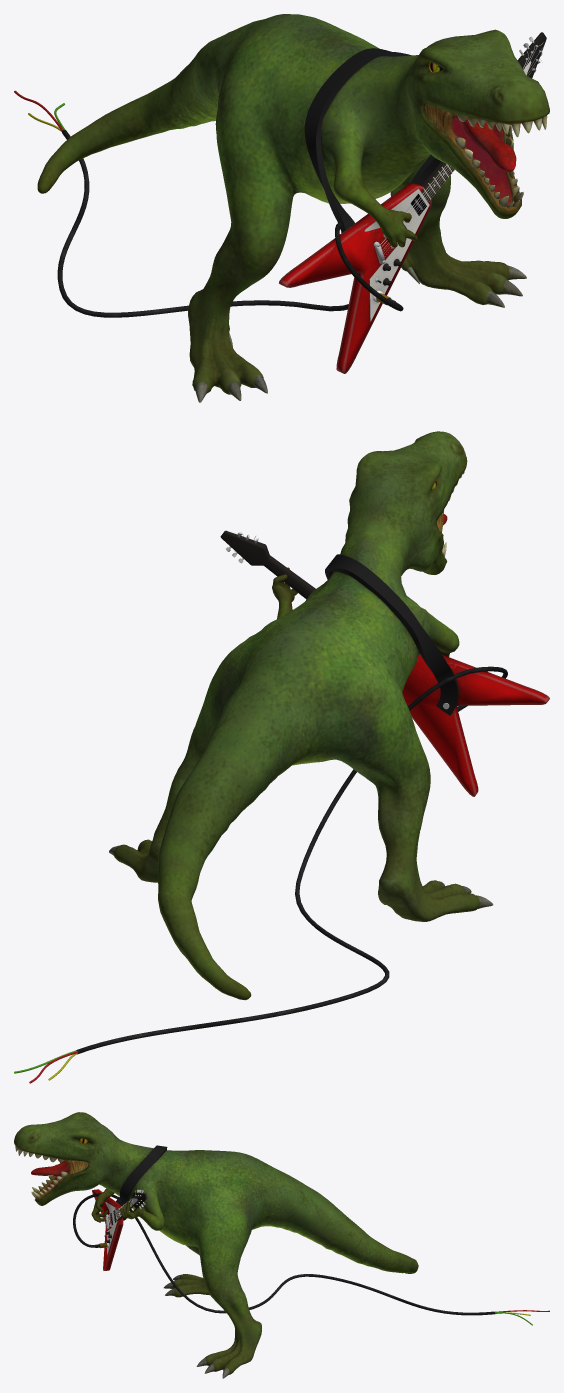
File: dino.glb
3 views of the same model, one above another, from view 1: azimuth 30°, elevation 25°; view 2: azimuth 150°, elevation 25°; view 3: azimuth 270°, elevation 25° (orthographic). The views are drawn at different scales.
Visible parts, largest first — view 1: BodyRetopo, Marge_Guitar.001_Cube.006, object 17, Marge_Guitar_Cube.005, object 16, TeethRetopo, tongueRetopo, clawsRetopo, BodyFallRetopo, gumRetopo.002, Marge_Guitar.003_Cube.009, Plug_Cube.002; view 2: BodyRetopo, Marge_Guitar.001_Cube.006, object 16, object 17, Marge_Guitar_Cube.005; view 3: BodyRetopo, object 16, object 17, Marge_Guitar.001_Cube.006, Marge_Guitar_Cube.005, TeethRetopo, gumRetopo.002, tongueRetopo.
Boxes of the visible parts, <box> form: BodyRetopo: <box>37,14,549,394</box>; Marge_Guitar.001_Cube.006: <box>279,183,431,373</box>; object 17: <box>304,48,440,232</box>; Marge_Guitar_Cube.005: <box>364,32,546,321</box>; object 16: <box>57,129,403,317</box>; TeethRetopo: <box>455,115,547,208</box>; tongueRetopo: <box>454,115,516,172</box>; clawsRetopo: <box>195,265,526,402</box>; BodyFallRetopo: <box>452,118,512,204</box>; gumRetopo.002: <box>425,103,546,211</box>; Marge_Guitar.003_Cube.009: <box>380,42,543,256</box>; Plug_Cube.002: <box>373,234,401,305</box>; BodyRetopo: <box>114,431,479,1000</box>; Marge_Guitar.001_Cube.006: <box>402,653,549,796</box>; object 16: <box>76,666,507,1054</box>; object 17: <box>325,554,458,715</box>; Marge_Guitar_Cube.005: <box>220,530,315,599</box>; BodyRetopo: <box>14,1112,418,1374</box>; object 16: <box>73,1193,495,1315</box>; object 17: <box>116,1145,167,1220</box>; Marge_Guitar.001_Cube.006: <box>92,1189,123,1270</box>; Marge_Guitar_Cube.005: <box>105,1189,146,1255</box>; TeethRetopo: <box>15,1146,67,1198</box>; gumRetopo.002: <box>20,1149,88,1199</box>; tongueRetopo: <box>31,1160,68,1175</box>.
Size of the model in its own units: 0.8888 by 0.8597 by 2.
3 materials, 3 textured.
